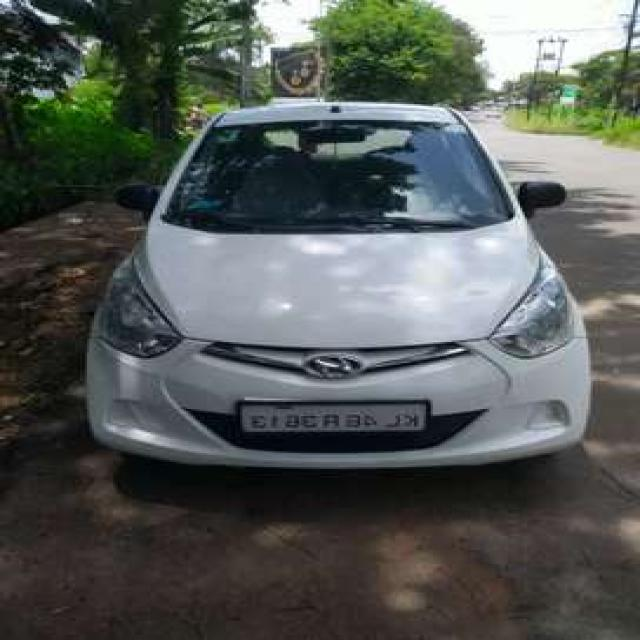license_plate: (232, 394, 434, 444)
